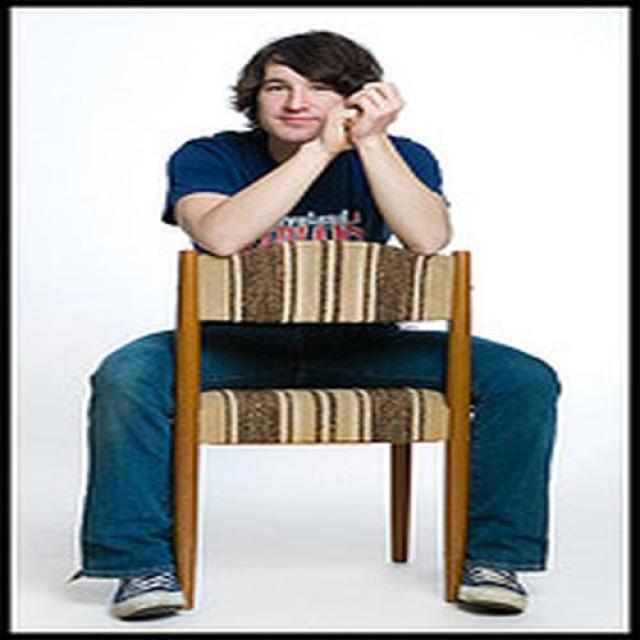chair: (172, 241, 471, 579)
